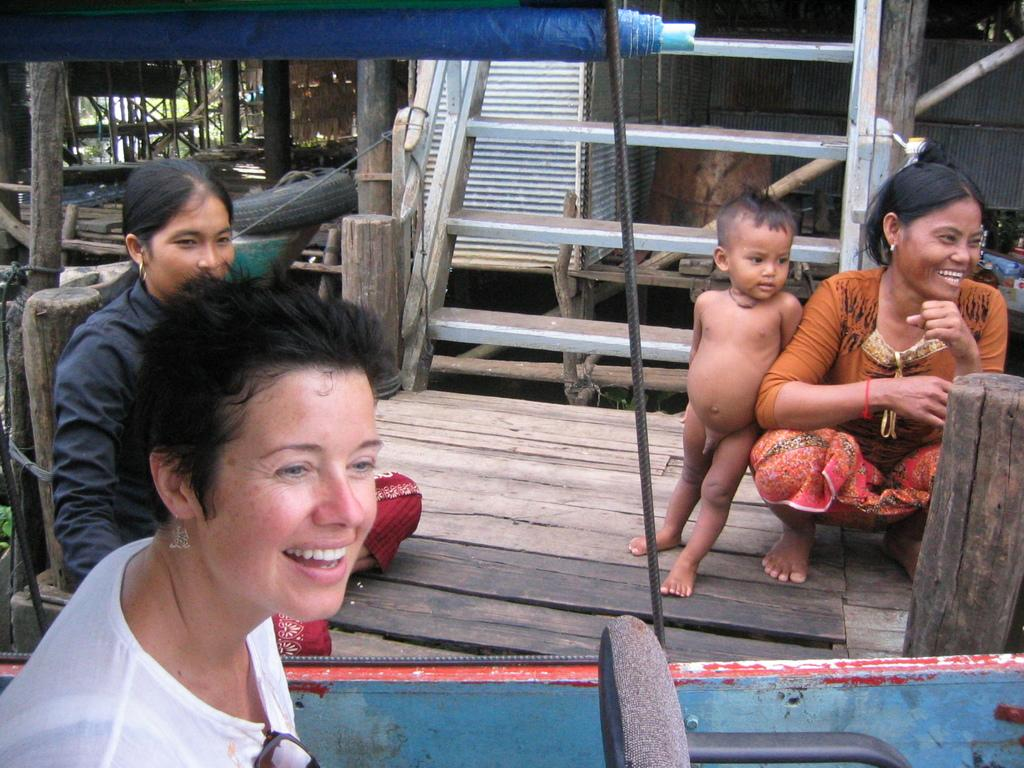Sem Máscara: (211, 385, 376, 615), (157, 201, 237, 290), (905, 218, 977, 297), (727, 233, 788, 296)
